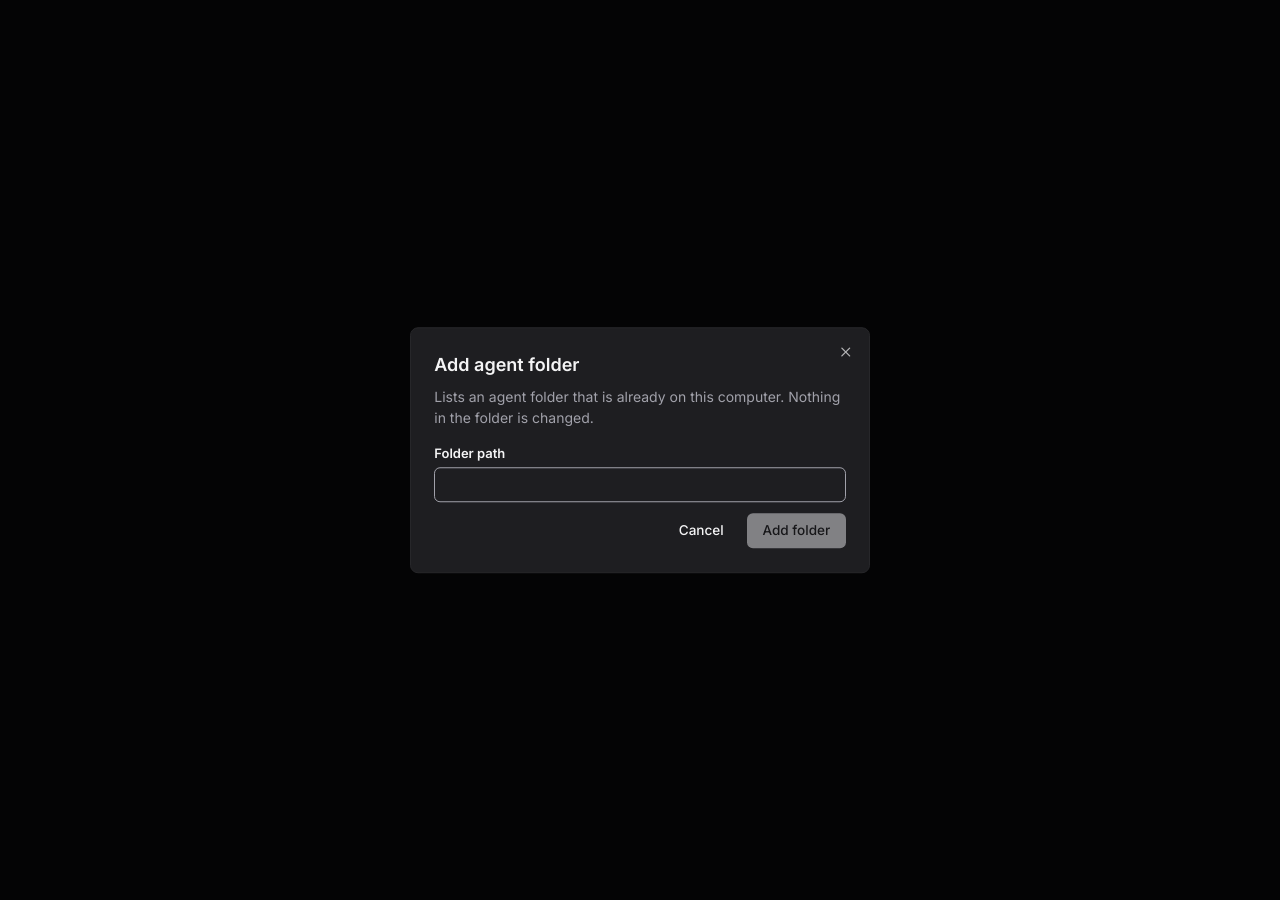
Test: AddAgentFolderDialog › test a 409 shows the server message
In the field labelled "Folder path": point(640, 485) [434,467,846,502], type "D:/Copy"
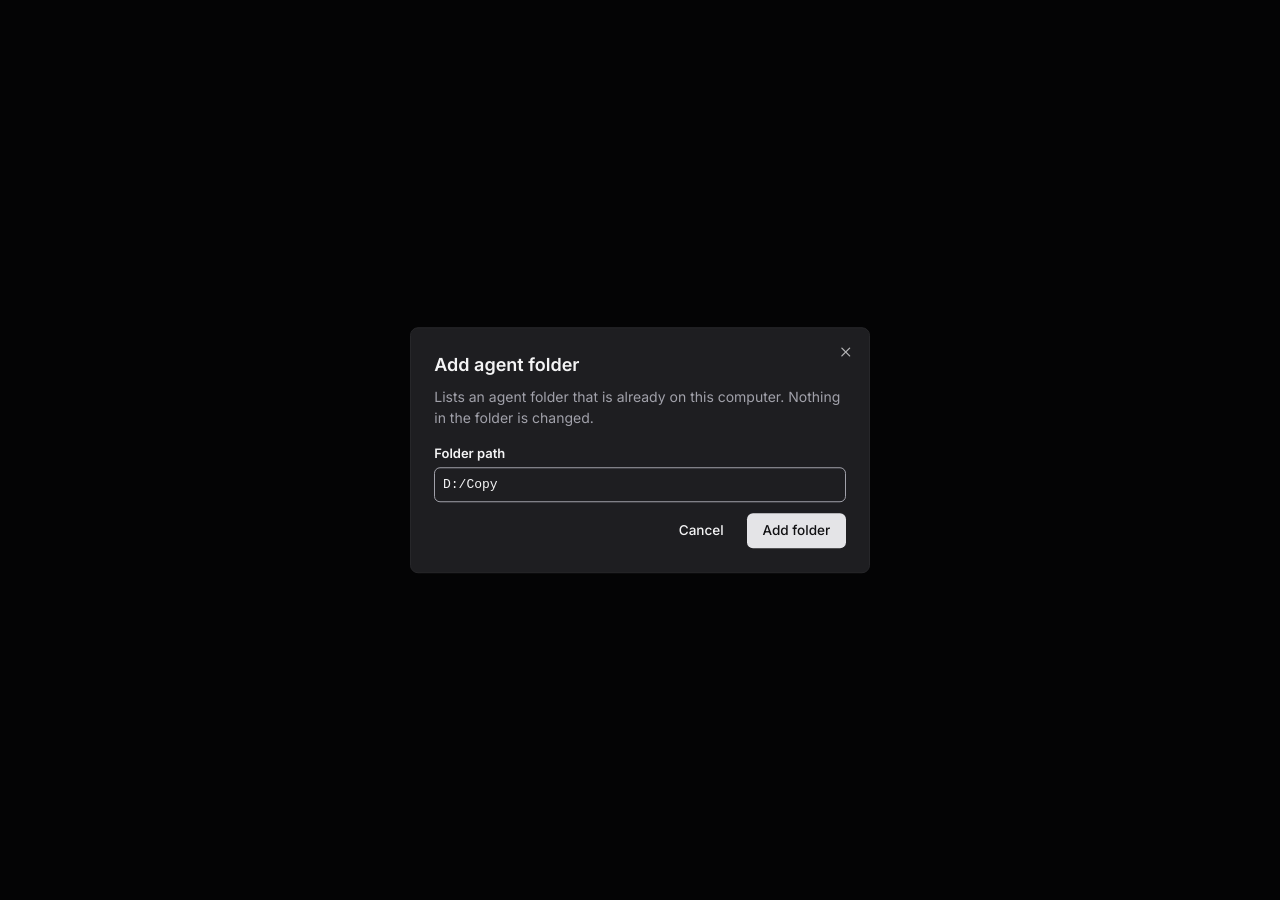
Click the button "Add folder": point(796, 531) [747,514,846,548]
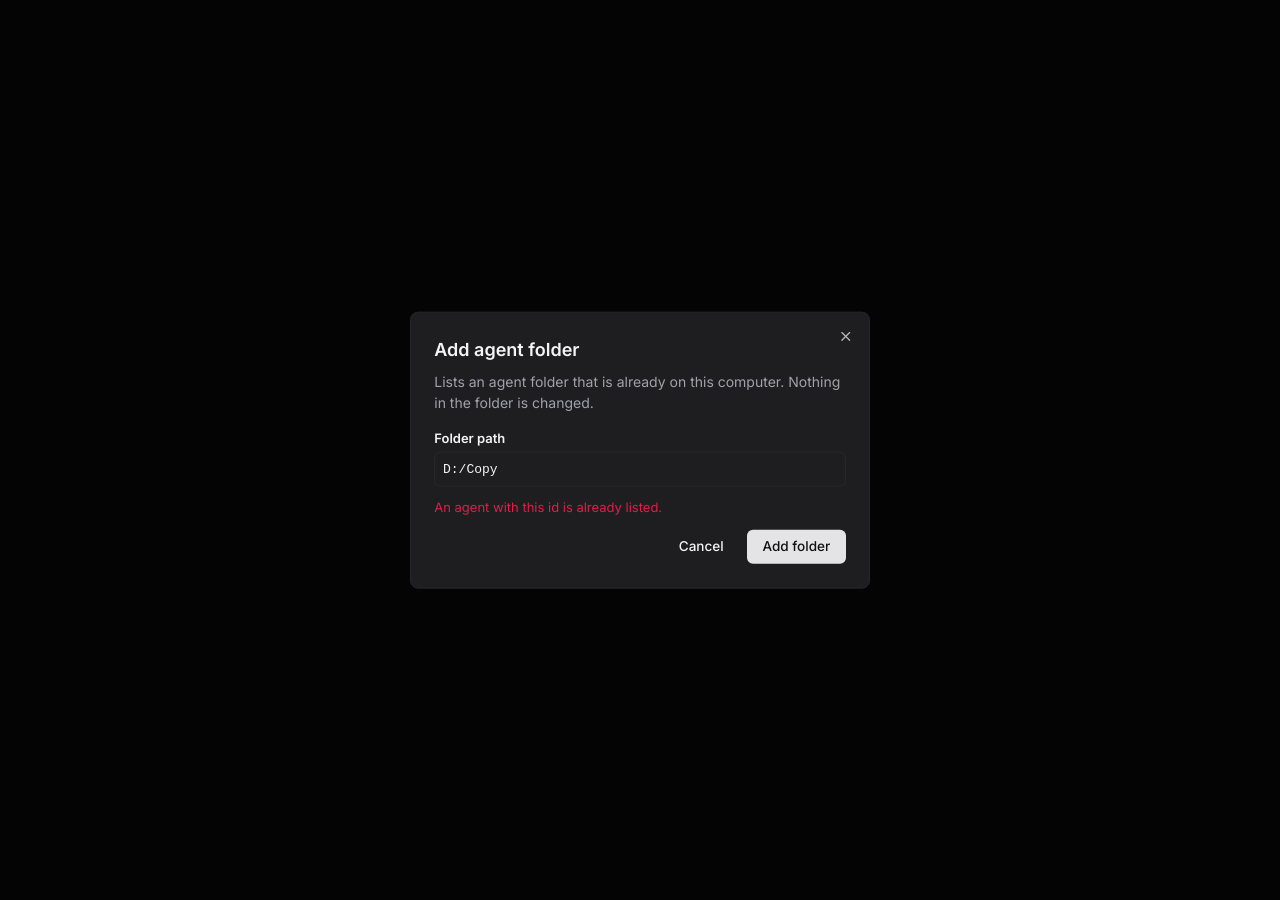
expect the message reads "An agent with this id is already listed.": met, box [434,499,662,515]
